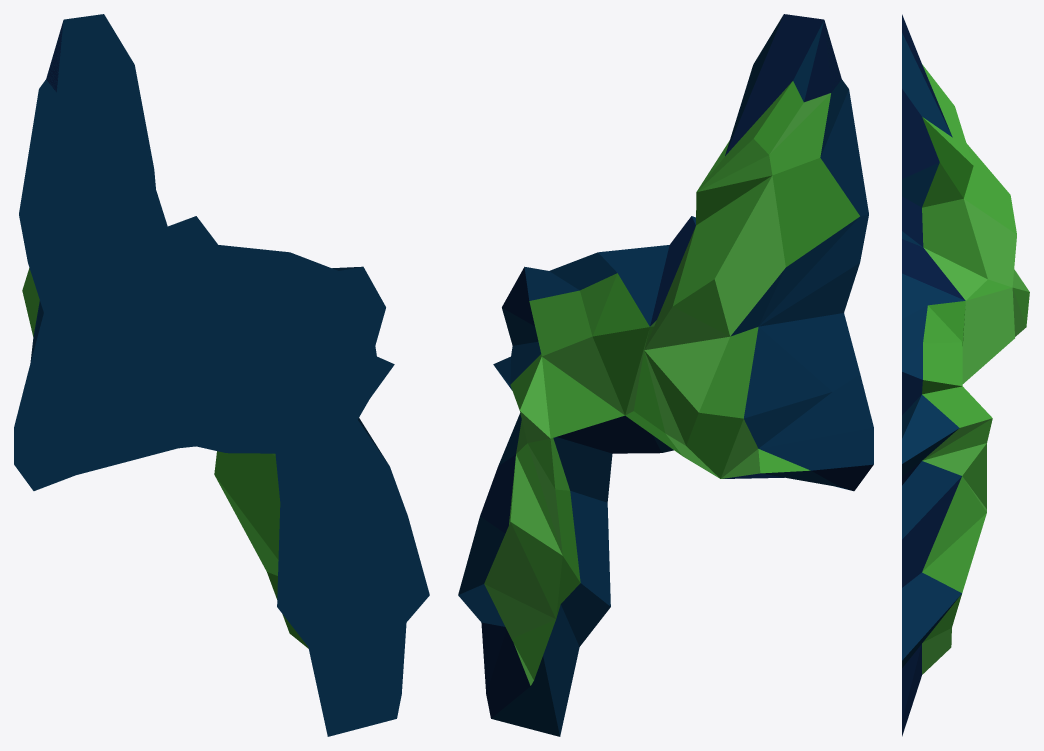
File: dw_middle_mountain_2.fbx
3 renders of one model, left to right at view 1: azimuth 30°, elevation 25°; view 2: azimuth 150°, elevation 25°; view 3: azimuth 270°, elevation 25°, orthographic. The views are drawn at different scales.
Parts seen in each view (by area): view 1: desert_middle_mountain_1.001; view 2: desert_middle_mountain_1.001; view 3: desert_middle_mountain_1.001.
Part boxes in pixels (x1,y1,x2,y2): desert_middle_mountain_1.001: (14, 14, 429, 736); desert_middle_mountain_1.001: (458, 14, 873, 736); desert_middle_mountain_1.001: (902, 14, 1029, 736).
Bounding box in the file's own units: 586 × 1054 × 204.
